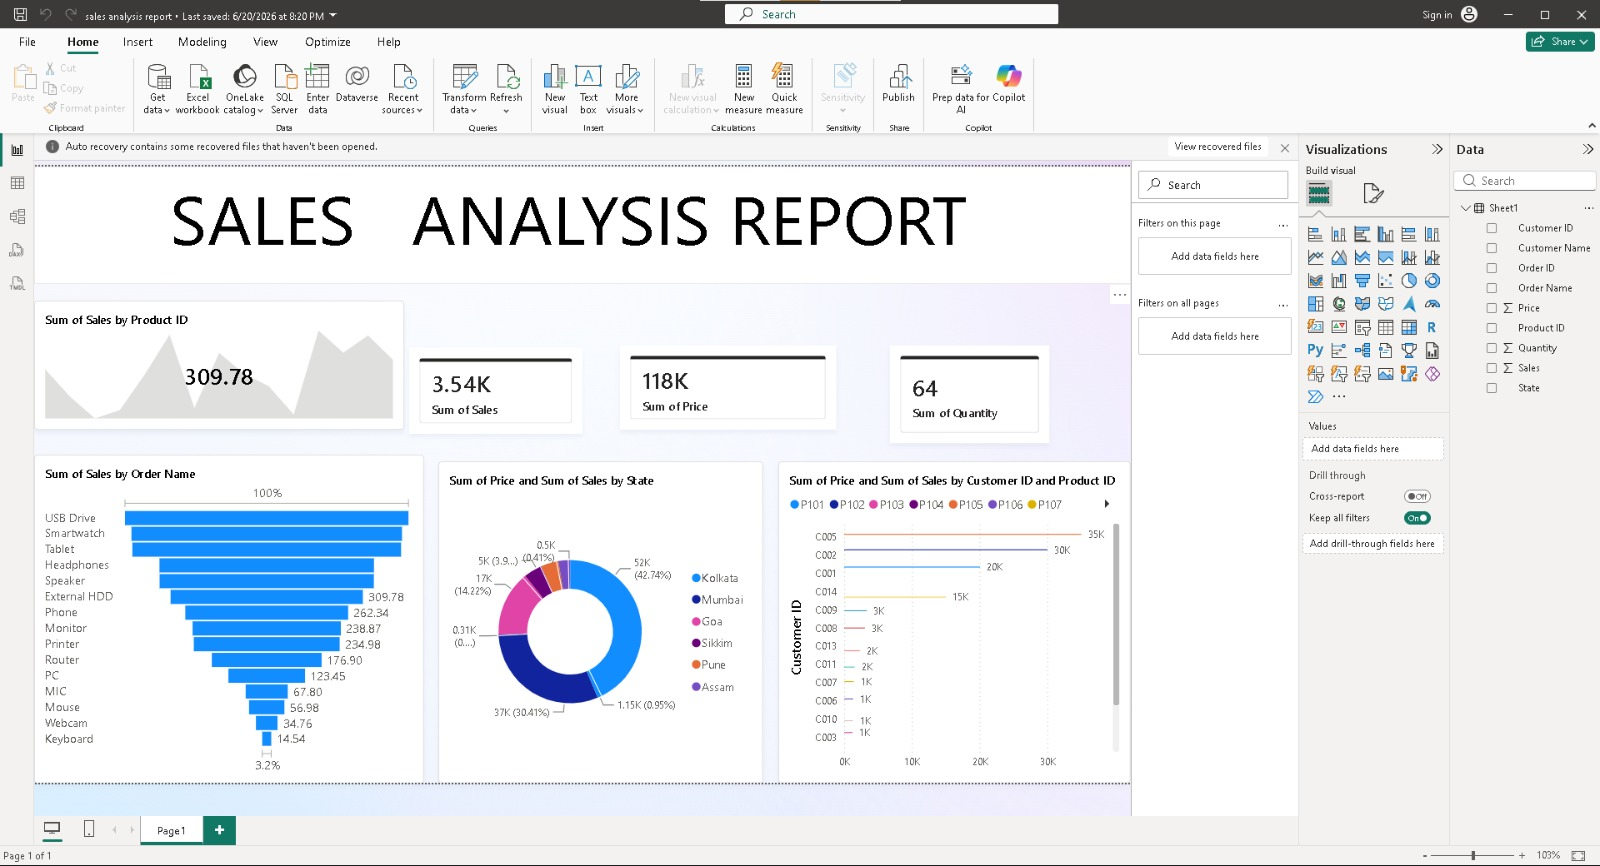

The dashboard page shown, as its layout file describes it:
{"tool":"powerbi","page":{"name":"Page 1","canvas":[1280,720],"ordinal":0},"visuals":[{"type":"funnel","fields":{"Category":["Sheet1.Order Name","Sheet1.State","Sheet1.Product ID"],"Y":["Sum(Sheet1.Sales)"]},"box":[0,336.1,454.9,383.9],"z":0},{"type":"donutChart","fields":{"Category":["Sheet1.State","Sheet1.Customer Name"],"Y":["Sum(Sheet1.Price)","Sum(Sheet1.Sales)"]},"box":[471.7,344,378.6,376],"z":1000},{"type":"clusteredBarChart","fields":{"Category":["Sheet1.Customer ID"],"Series":["Sheet1.Product ID"],"Y":["Sum(Sheet1.Price)"]},"box":[869,344,411.4,376],"z":2000},{"type":"kpi","fields":{"Indicator":["Sum(Sheet1.Sales)"],"TrendLine":["Sheet1.Product ID"]},"box":[0,156.9,431.8,150.7],"z":3000},{"type":"cardVisual","fields":{"Data":["Sum(Sheet1.Quantity)"]},"box":[999.3,209.3,186.2,114.4],"z":4000},{"type":"cardVisual","fields":{"Data":["Sum(Sheet1.Price)"]},"box":[683.6,209.3,252.7,98.4],"z":5000},{"type":"cardVisual","fields":{"Data":["Sum(Sheet1.Sales)"]},"box":[438,211.9,202.2,100.2],"z":6000},{"type":"textbox","box":[0,0,1280.4,137.4],"z":7000}]}

Visuals, with their boxes on the page's 1280x720 design canvas (x1, y1, x2, y2). These are canvas units, not pixel positions in the 1600x866 screenshot, which may show the page scaled, cropped or inside an application window:
funnel - Sheet1.Order Name x Sheet1.State: BBox(0, 336, 455, 720)
donutChart - Sheet1.State x Sheet1.Customer Name: BBox(472, 344, 850, 720)
clusteredBarChart - Sheet1.Customer ID x Sheet1.Product ID: BBox(869, 344, 1280, 720)
kpi - Sum(Sheet1.Sales) x Sheet1.Product ID: BBox(0, 157, 432, 308)
cardVisual - Sum(Sheet1.Quantity): BBox(999, 209, 1186, 324)
cardVisual - Sum(Sheet1.Price): BBox(684, 209, 936, 308)
cardVisual - Sum(Sheet1.Sales): BBox(438, 212, 640, 312)
textbox: BBox(0, 0, 1280, 137)
